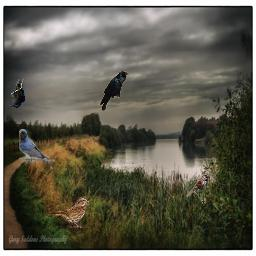Crow: (100, 71, 129, 111), (9, 79, 25, 108)
Sparrow: (49, 196, 89, 228), (186, 173, 210, 204)
Swallow: (19, 129, 55, 169)
